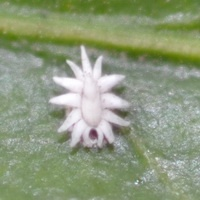insect: (49, 45, 129, 147)
